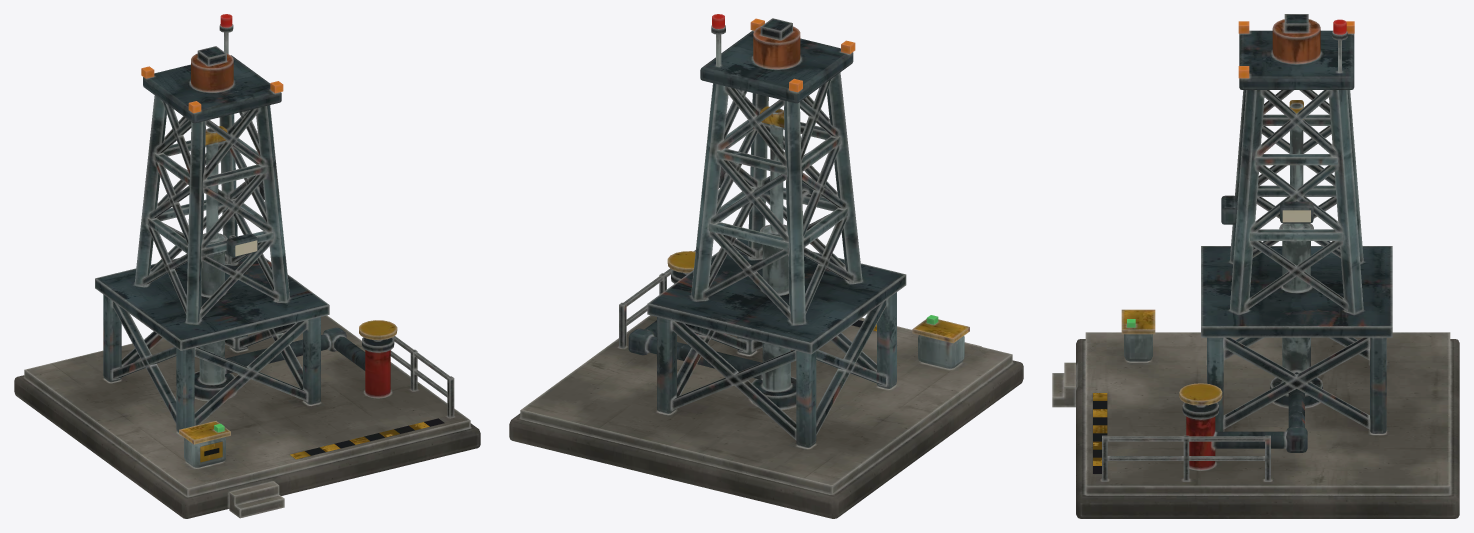
File: pump.glb
3 views of the same model, side by side, from view 1: azimuth 30°, elevation 25°; view 2: azimuth 150°, elevation 25°; view 3: azimuth 270°, elevation 25° (orthographic). The views are drawn at different scales.
Parts seen in each view (by area): view 1: te_pump, move_rod; view 2: te_pump, move_rod; view 3: te_pump, move_rod.
Boxes of the visible parts, x1,y1,x2,y2 form: te_pump: (14, 14, 480, 518); move_rod: (205, 126, 227, 241); te_pump: (509, 14, 1023, 518); move_rod: (760, 106, 784, 233); te_pump: (1052, 14, 1459, 518); move_rod: (1289, 100, 1303, 229).
Size of the model in its own units: 0.8 by 0.9744 by 0.85.
1 material, 1 textured.
